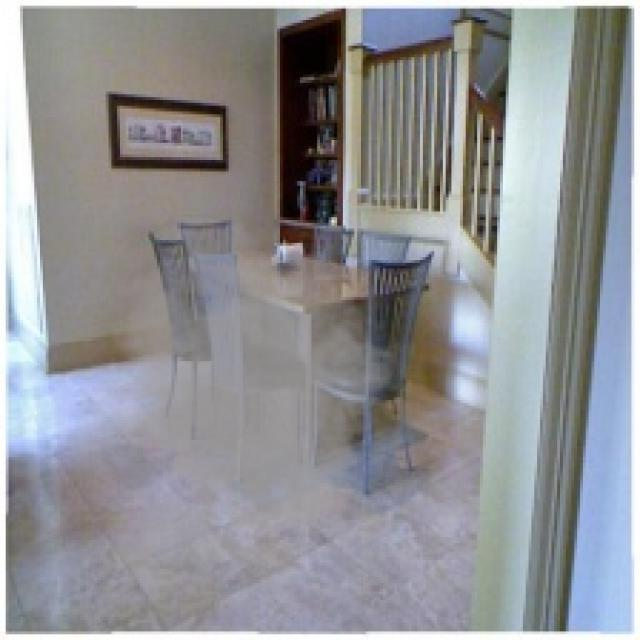Smoke: (57, 212, 449, 592)
